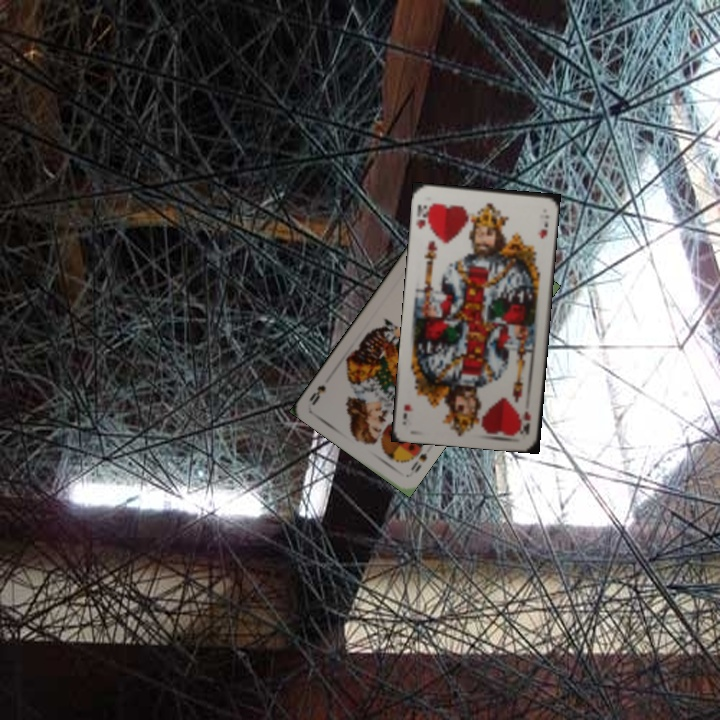HK: (412, 198, 434, 233), (516, 408, 533, 436)
SO: (406, 449, 430, 475)
